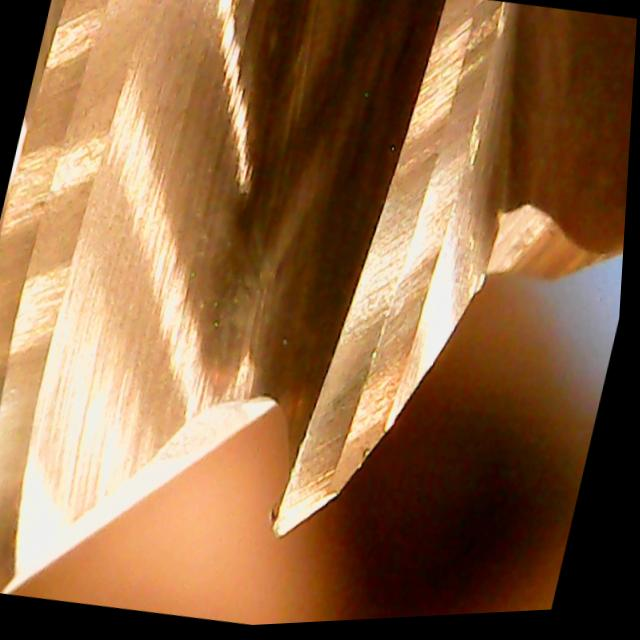Tool-wear-class-0: (245, 181, 498, 574)
